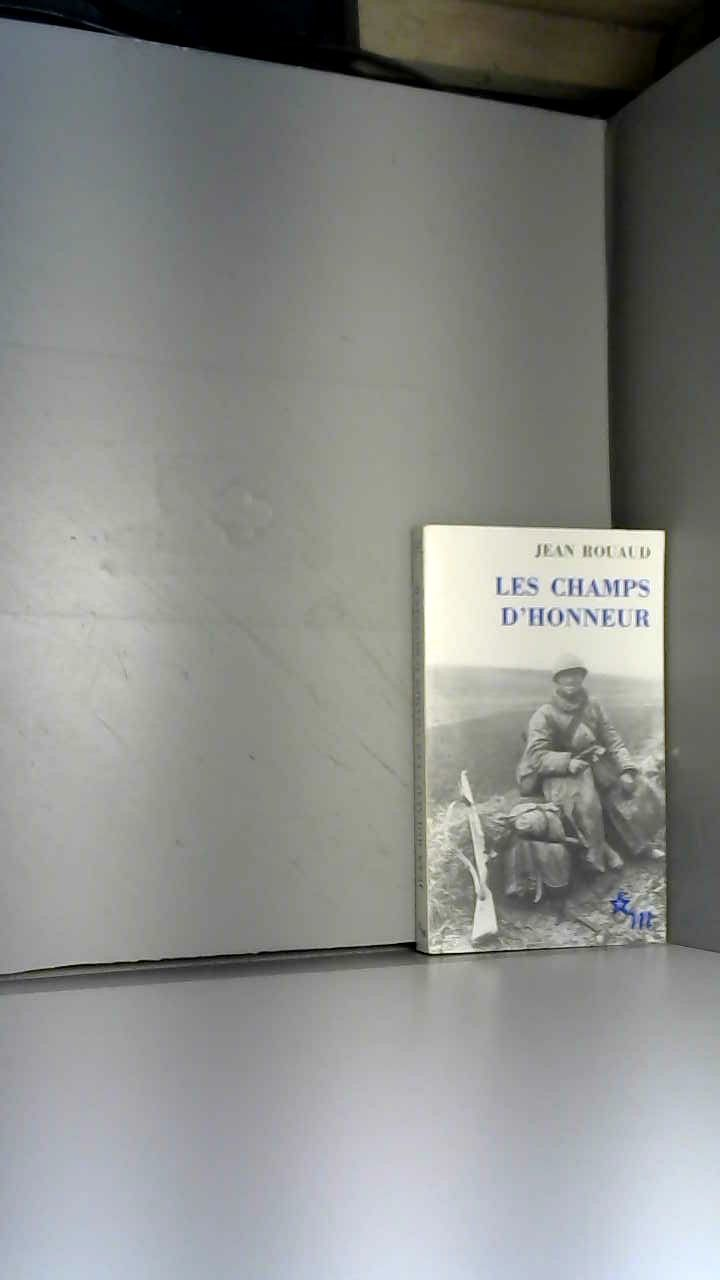book: (386, 488, 697, 983)
